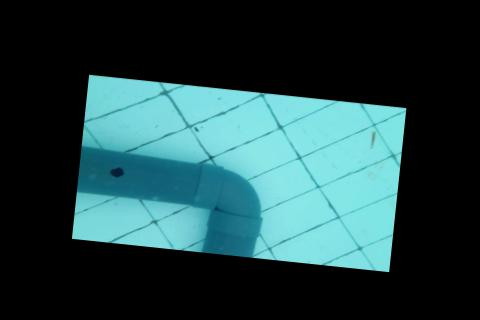kebocoran: (107, 164, 125, 180)
